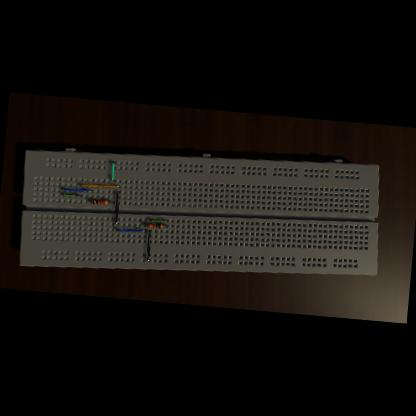breadboard: (16, 133, 387, 298)
resistor: (92, 200, 108, 206), (148, 224, 162, 230)
wire: (80, 184, 120, 190), (114, 192, 121, 224), (146, 230, 153, 262), (116, 228, 145, 235), (62, 188, 92, 193), (111, 161, 117, 182), (150, 218, 167, 224), (62, 194, 81, 198), (163, 226, 167, 227), (145, 225, 147, 226)
